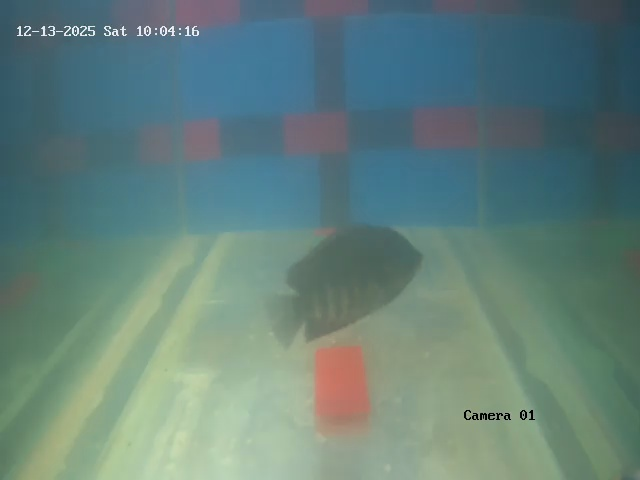fish: (292, 207, 422, 364)
